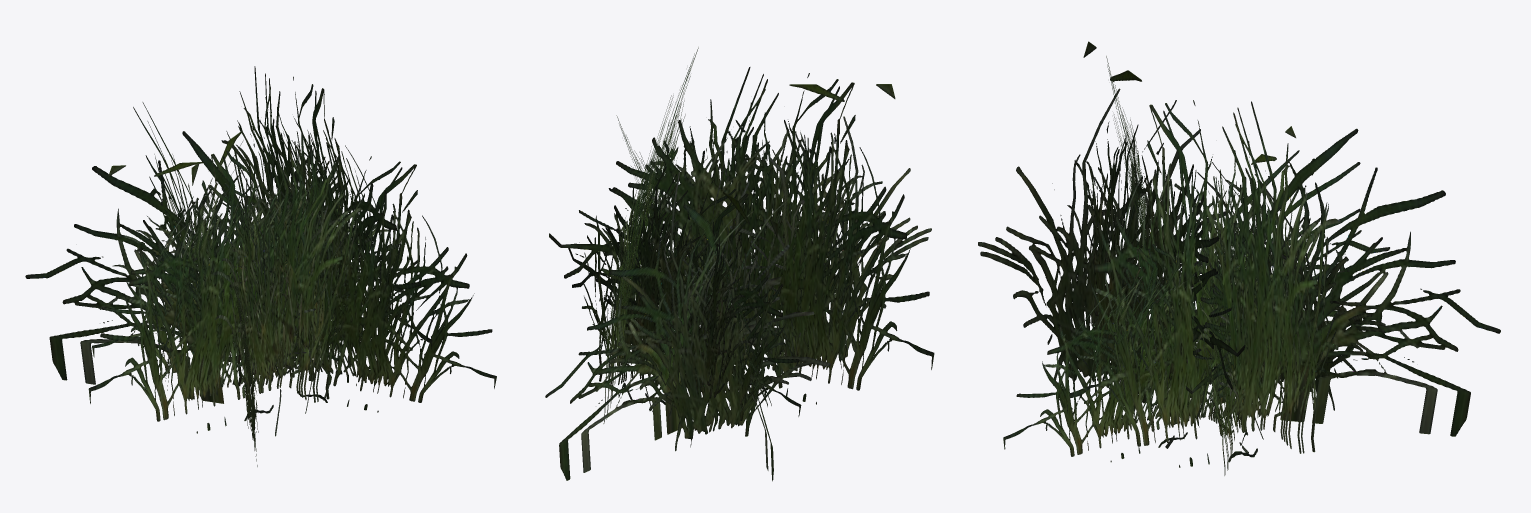
The model's file is forest_grass_003_a_LOD1.gltf.
3 renders of one model, left to right at view 1: azimuth 30°, elevation 25°; view 2: azimuth 150°, elevation 25°; view 3: azimuth 270°, elevation 25°, orthographic. The views are drawn at different scales.
Visible parts, largest first — view 1: meadow_grass_002_a_LOD1; view 2: meadow_grass_002_a_LOD1; view 3: meadow_grass_002_a_LOD1.
Part boxes in pixels (x1=…): meadow_grass_002_a_LOD1: x1=25, y1=66, x2=496, y2=466; meadow_grass_002_a_LOD1: x1=545, y1=47, x2=934, y2=481; meadow_grass_002_a_LOD1: x1=978, y1=41, x2=1500, y2=475.
Bounding box in the file's own units: 0.9923 × 0.8225 × 1.2.
